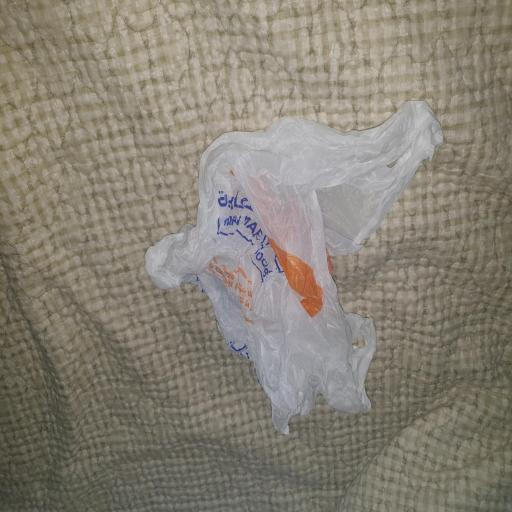plastic bag: (146, 99, 444, 438)
